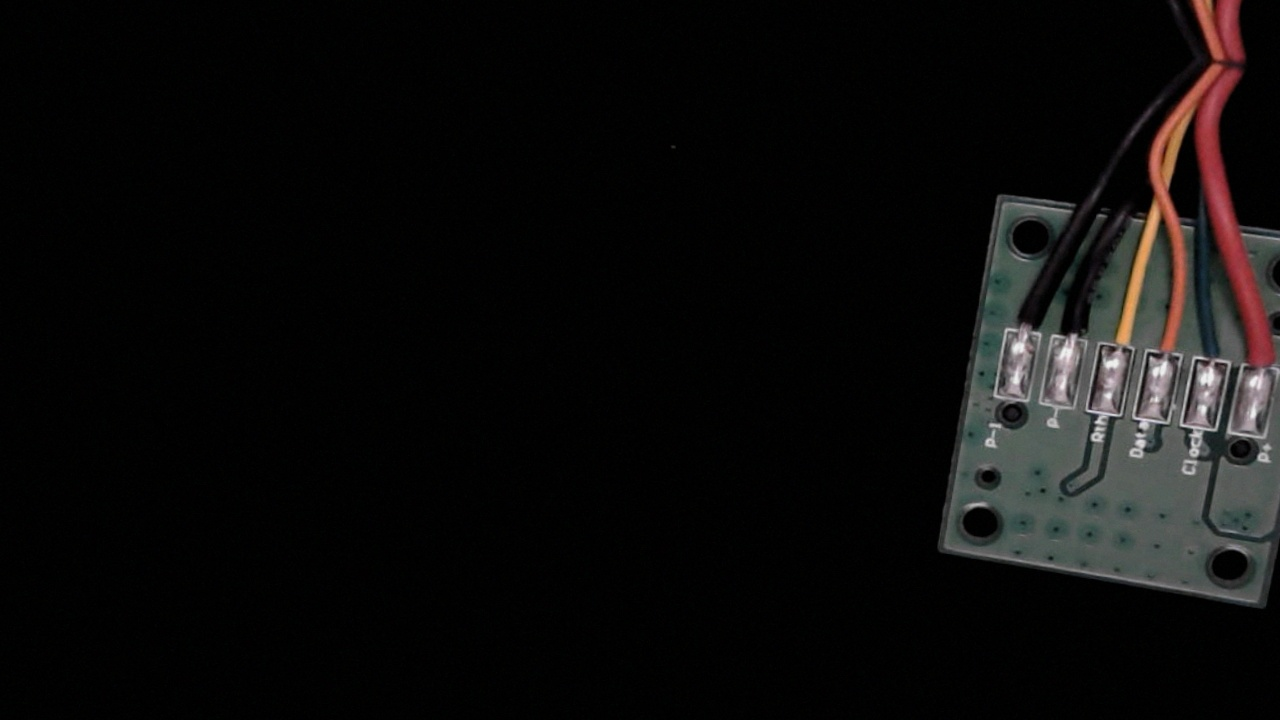Black: (1050, 285, 1098, 359)
Black1: (999, 275, 1050, 355)
Green: (1186, 300, 1241, 384)
Orange: (1141, 291, 1194, 376)
Red: (1237, 306, 1280, 390)
Yellow: (1095, 278, 1149, 366)
